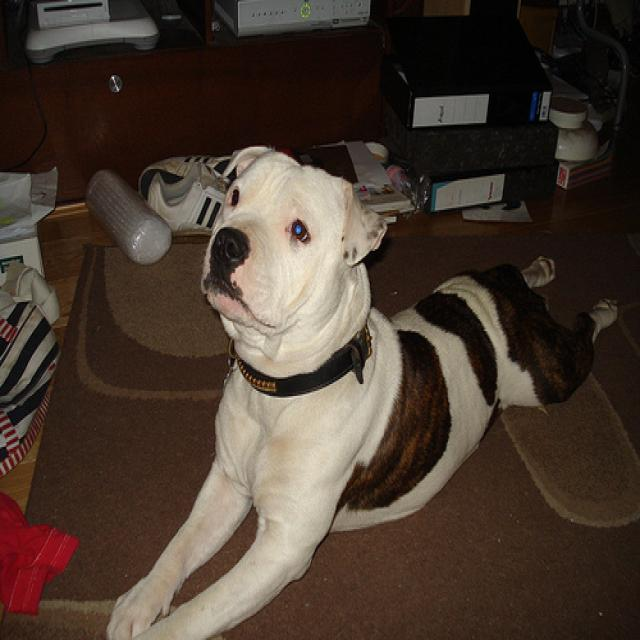dog-staffordshire_bull_terrier: (100, 135, 625, 637)
